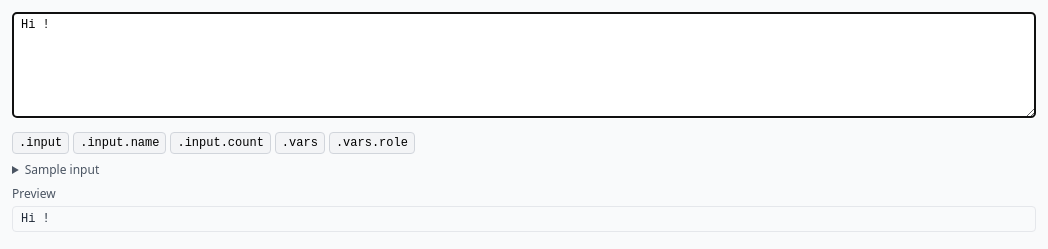
Test: TemplateEditor › inserts a path at the caret position
Click the button titled "Insert {{.input.name}}" at (120, 143), box [73, 132, 166, 154]
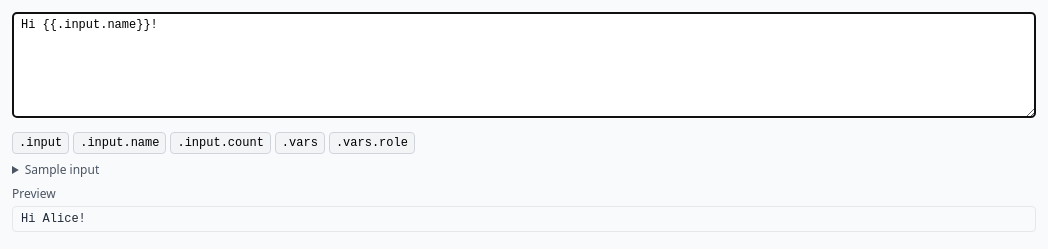
Check: the text box named "Template expression" holds "Hi {{.input.name}}!", box [12, 12, 1036, 118]
